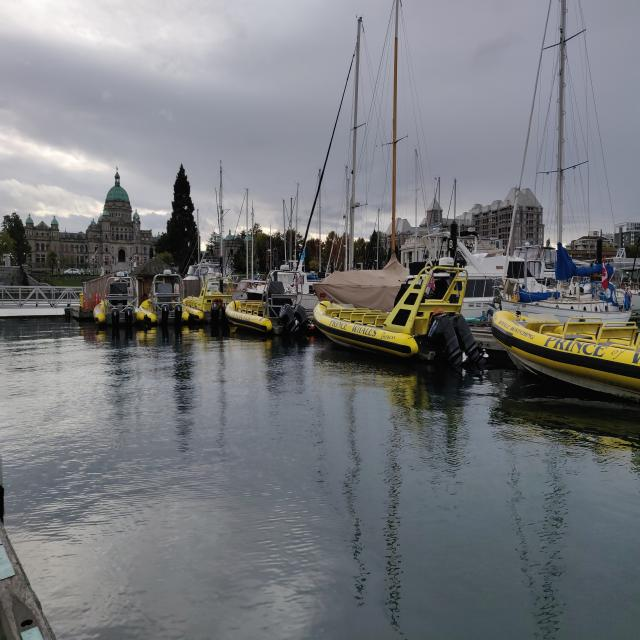boat: (491, 0, 634, 333)
skiff: (313, 266, 488, 378), (488, 309, 640, 402), (225, 268, 307, 336), (140, 270, 204, 328), (92, 272, 146, 329), (180, 274, 239, 326)
